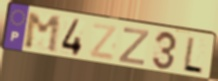3: (151, 30, 178, 72)
4: (59, 18, 84, 58)
L: (181, 35, 205, 76)
M: (23, 12, 62, 55)
Z: (116, 26, 151, 68), (88, 21, 119, 62)
